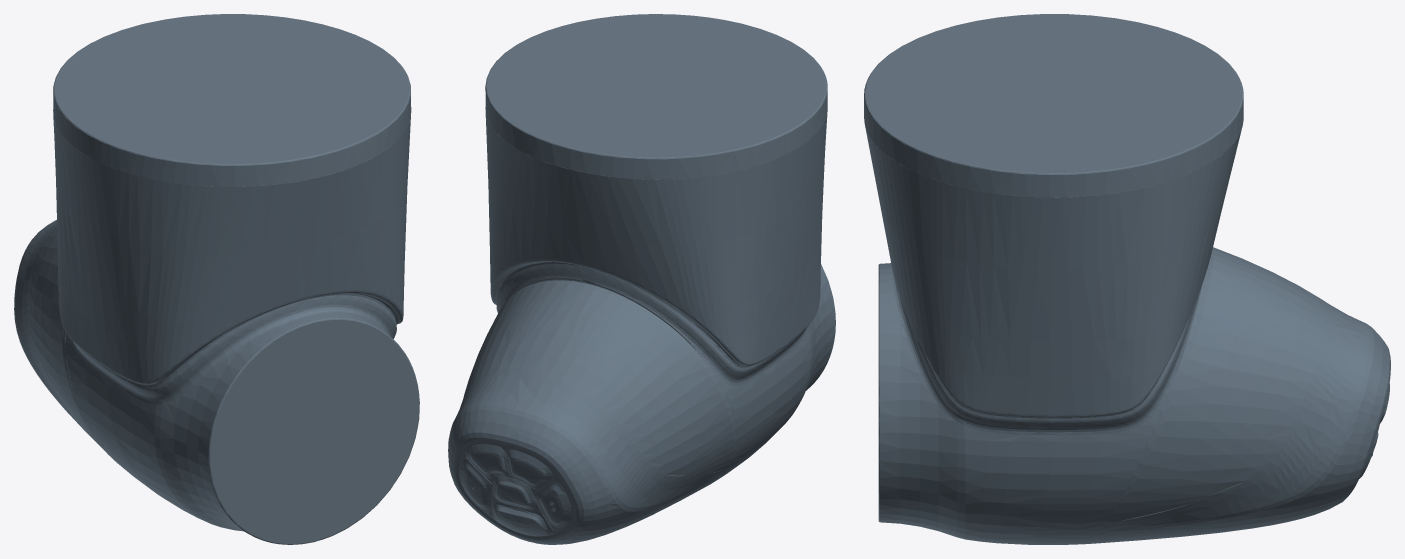
3 renders of one model, left to right at view 1: azimuth 30°, elevation 25°; view 2: azimuth 150°, elevation 25°; view 3: azimuth 270°, elevation 25°, orthographic. The views are drawn at different scales.
Visible parts, largest first — view 1: H2017_5_0; view 2: H2017_5_0; view 3: H2017_5_0.
Boxes of the visible parts, left/top/right/bottom form: H2017_5_0: left=14, top=14, right=419, bottom=544; H2017_5_0: left=448, top=14, right=835, bottom=544; H2017_5_0: left=864, top=14, right=1390, bottom=544.
Size of the model in its own units: 131 by 182 by 166.
